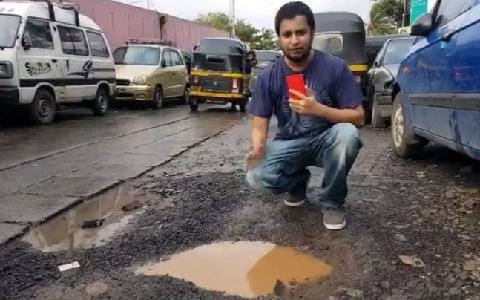pothole: (132, 234, 336, 297), (16, 180, 167, 252)
